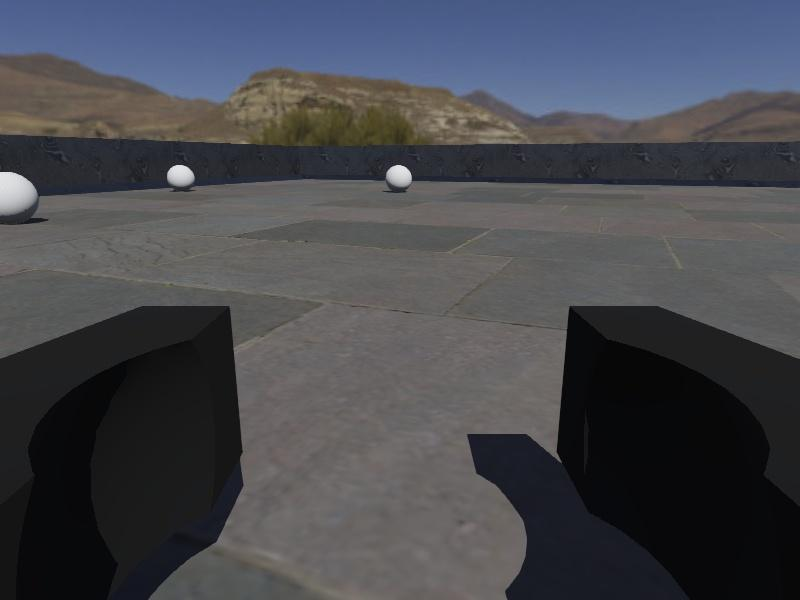white ball: (384, 165, 413, 192), (168, 165, 195, 191)
